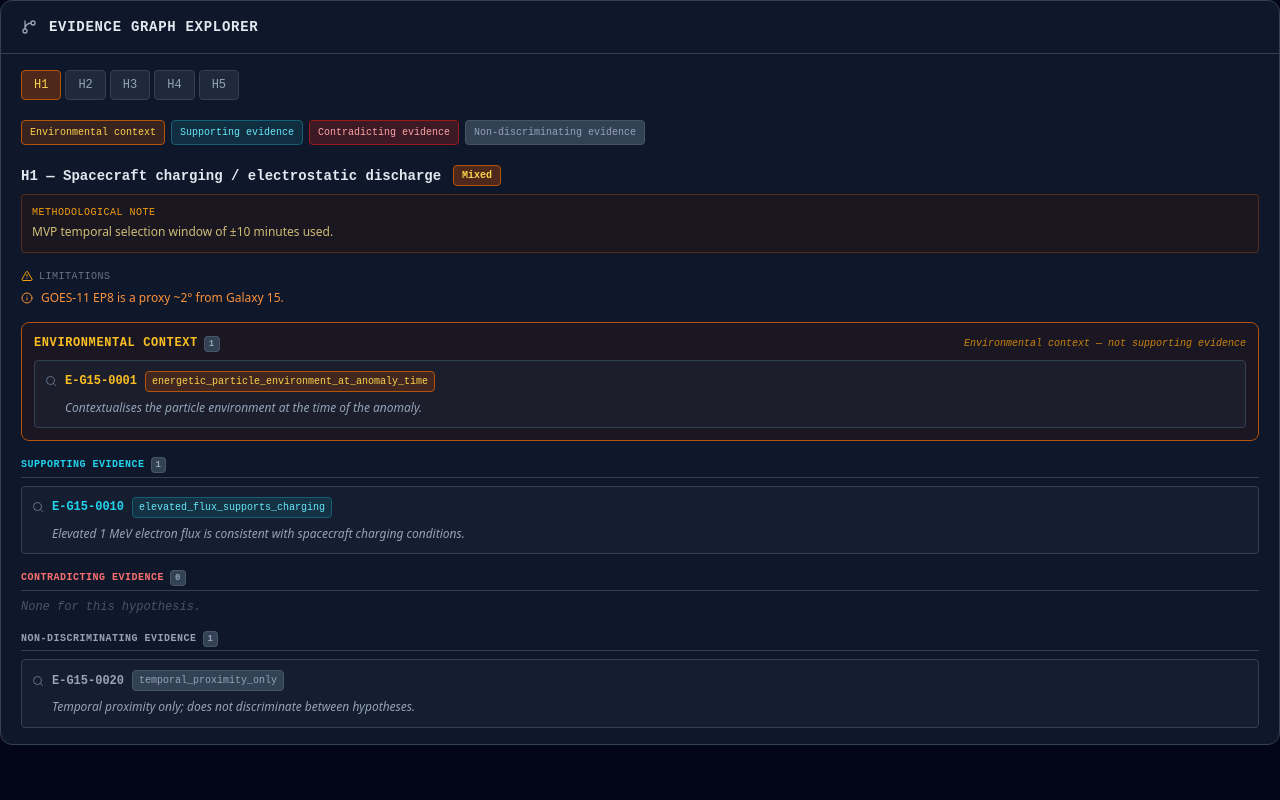
Test case: EvidenceGraphExplorer › EG-5: H5 shows strongly_supported assessment
This screenshot has width=1280, height=800.
Click the tab with test id "explorer-tab-H5". click: click(219, 85)
box: [199,70,239,100]
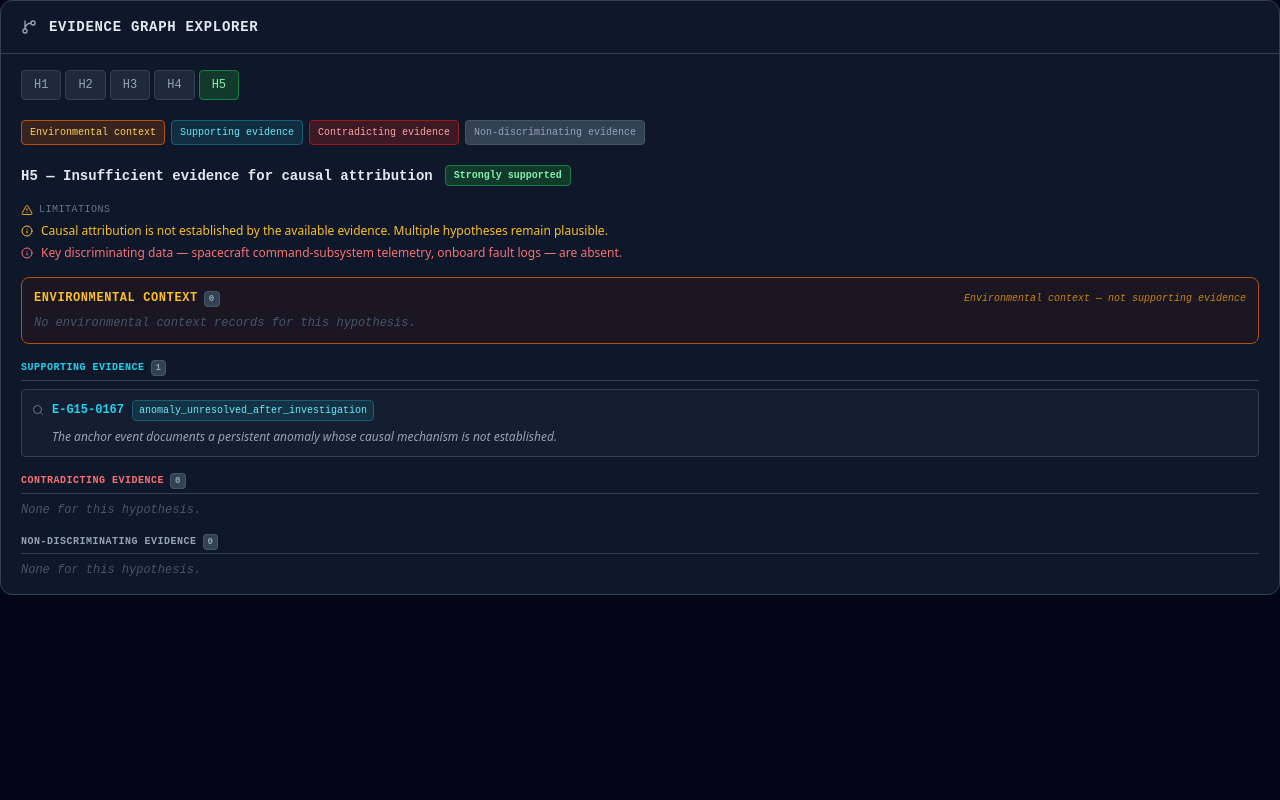
Check: the text with test id "explorer-assessment-H5" reads "Strongly supported", box [454,170,562,181]
